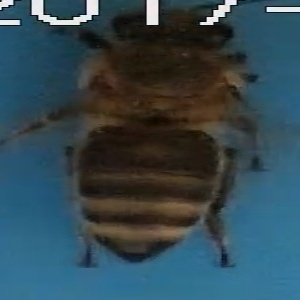bee: (65, 34, 285, 281)
